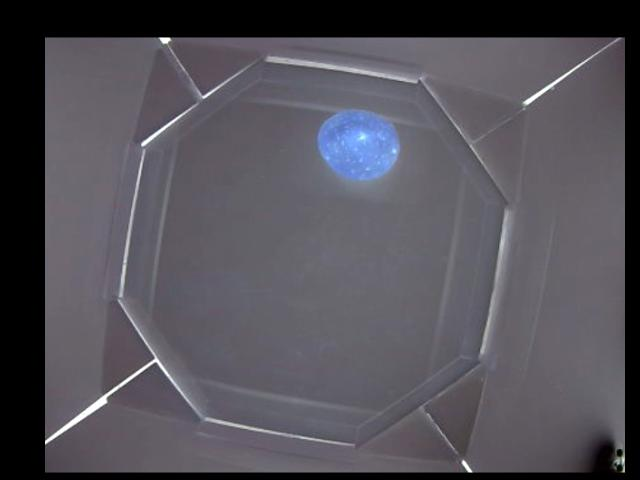Potato: (321, 109, 397, 176)
